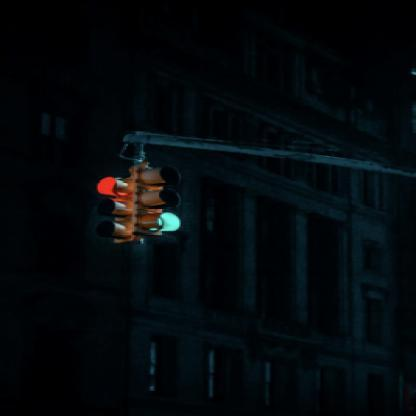Green Light: (136, 164, 178, 236)
Red Light: (96, 171, 134, 244)
